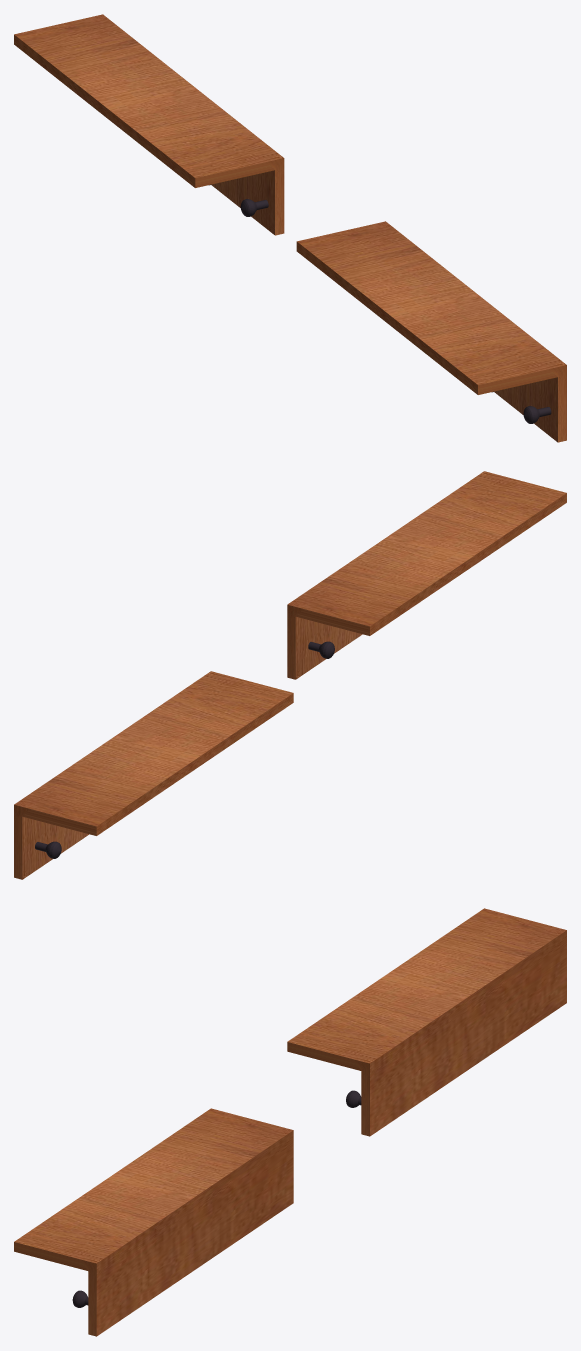
The model's file is partileria-trofeus-mdl.glb.
3 views of the same model, one above another, from view 1: azimuth 30°, elevation 25°; view 2: azimuth 150°, elevation 25°; view 3: azimuth 330°, elevation 25° (orthographic). The views are drawn at different scales.
Parts seen in each view (by area): view 1: Cube, Cube.001; view 2: Cube.001, Cube; view 3: Cube, Cube.001.
Boxes of the visible parts, x1,y1,x2,y2 form: Cube: (14, 14, 284, 235); Cube.001: (296, 221, 566, 442); Cube.001: (287, 471, 566, 679); Cube: (14, 671, 293, 879); Cube: (287, 908, 566, 1136); Cube.001: (14, 1108, 293, 1336).
Size of the model in its own units: 0.4243 by 0.3103 by 3.55.
Materials: 2 (1 with a texture image).
